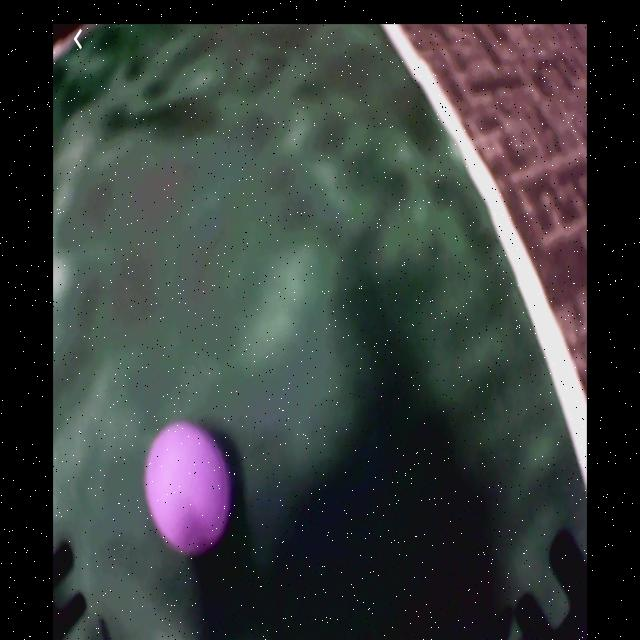ball: (146, 425, 234, 551)
